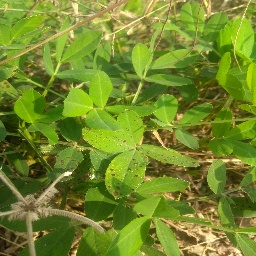GroundNut_Leaf: (103, 154, 149, 199), (60, 26, 105, 66), (116, 215, 153, 254), (81, 126, 136, 152), (223, 13, 254, 56), (14, 86, 45, 121), (179, 1, 207, 39), (9, 13, 45, 42), (217, 70, 249, 102), (203, 156, 228, 196), (88, 70, 113, 109), (155, 218, 181, 255), (179, 101, 215, 126), (152, 92, 177, 126), (54, 145, 79, 178), (128, 43, 150, 79), (153, 72, 193, 88), (172, 130, 202, 151)
